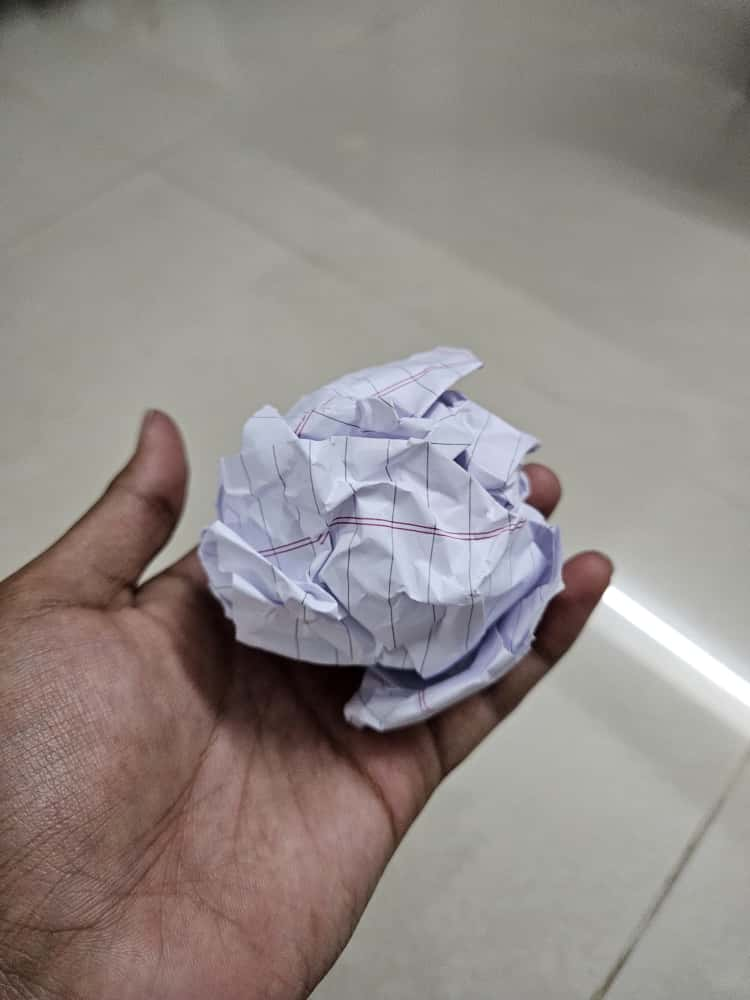dry: (179, 344, 587, 729)
